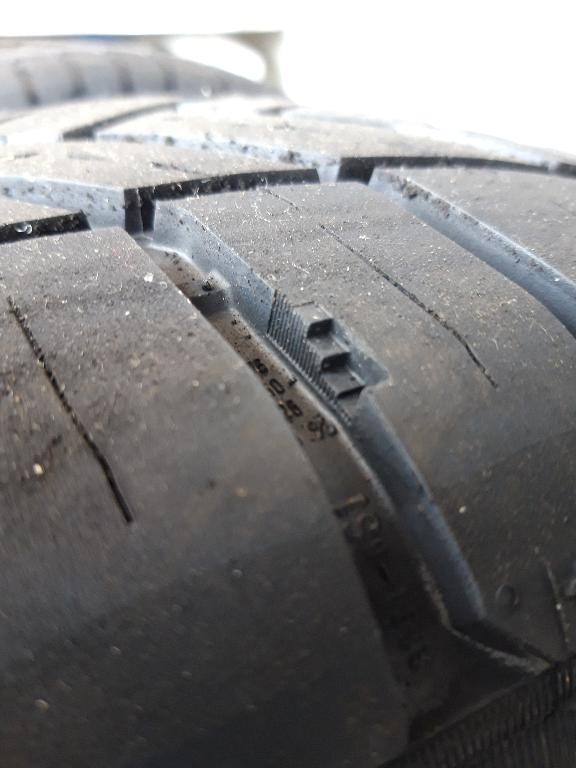temoin:75: (283, 299, 398, 430)
